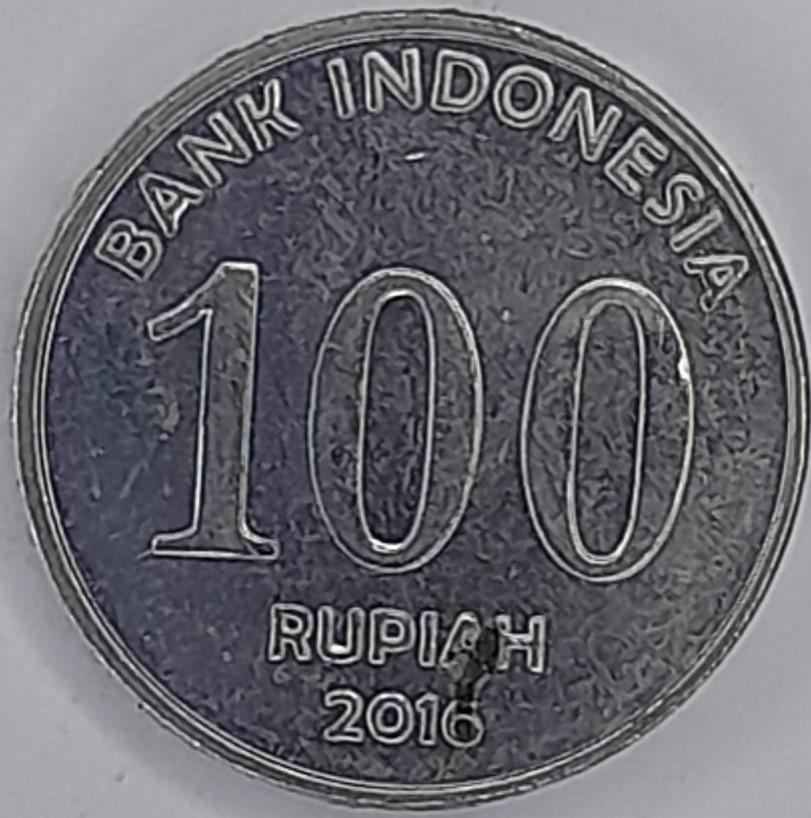coin_100_e2016: (5, 2, 810, 813)
